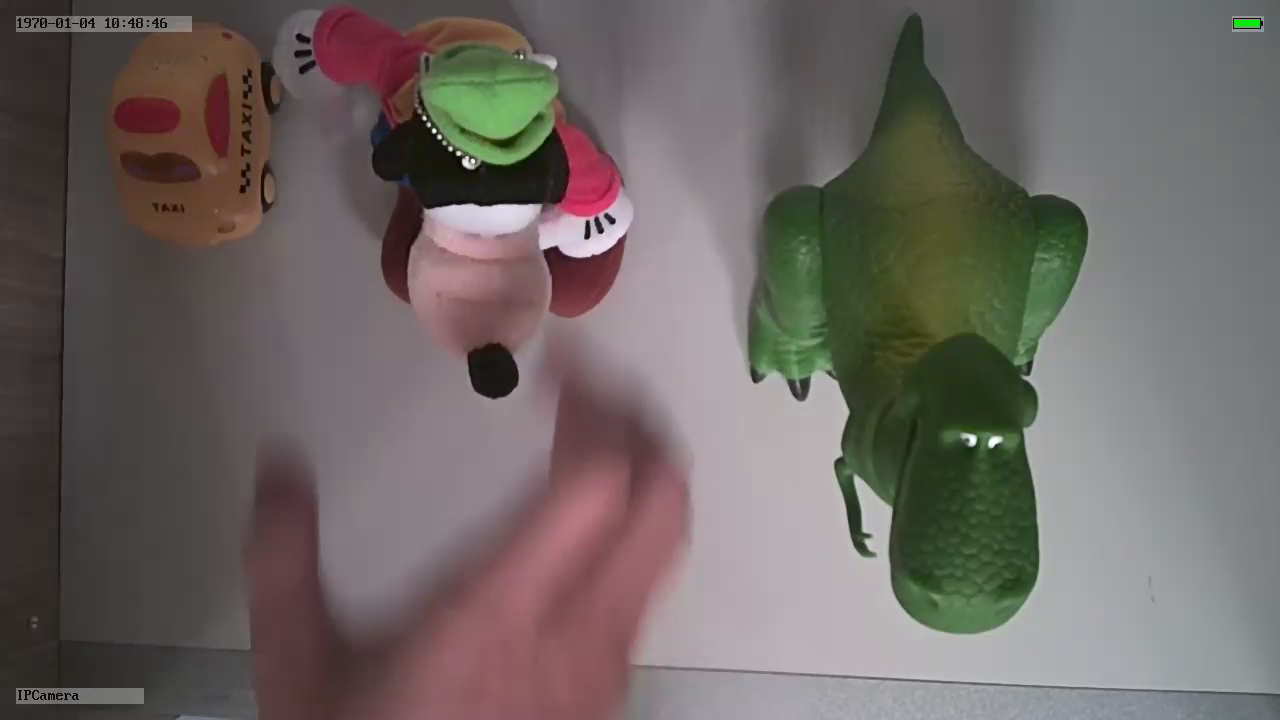goofy: (271, 16, 631, 398)
